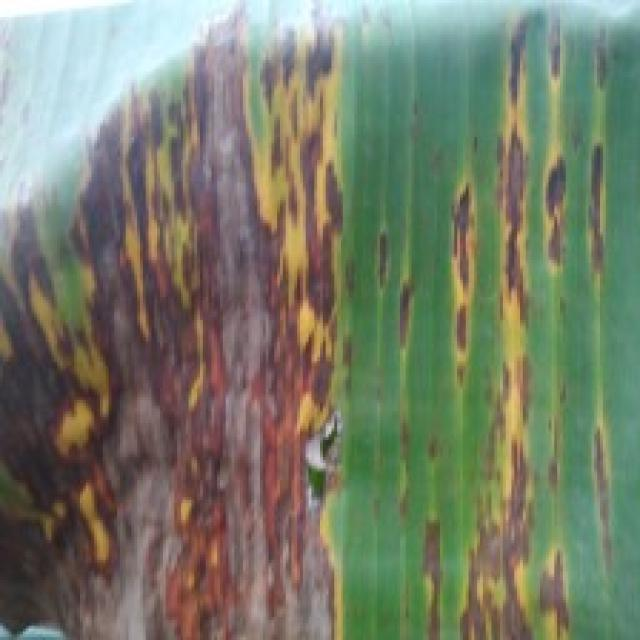Early_leaf_spot: (0, 0, 472, 640), (469, 0, 640, 640), (378, 403, 456, 639), (431, 167, 492, 429), (356, 204, 422, 375)
